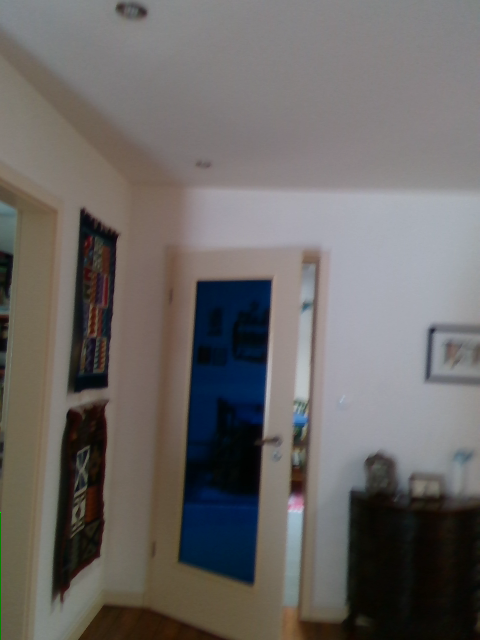semi: (145, 248, 328, 639)
